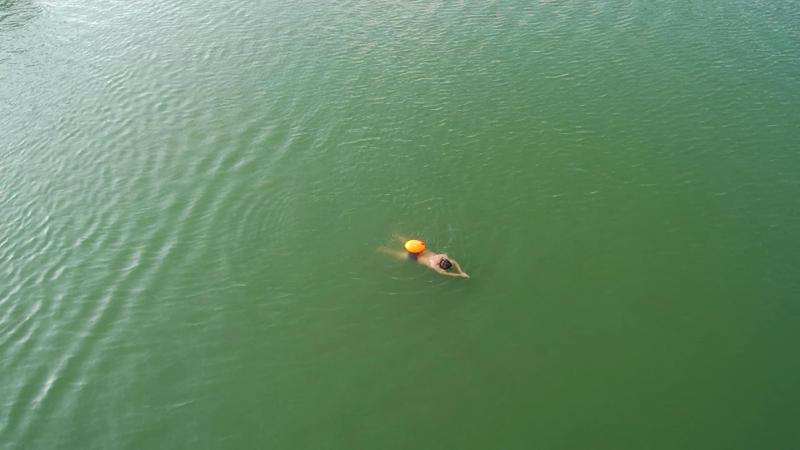swimmers: (375, 231, 469, 280)
